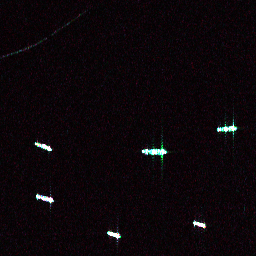ship: (32, 138, 54, 154), (33, 192, 56, 205), (140, 147, 169, 157), (105, 229, 122, 241), (216, 124, 238, 133), (191, 219, 208, 230)
